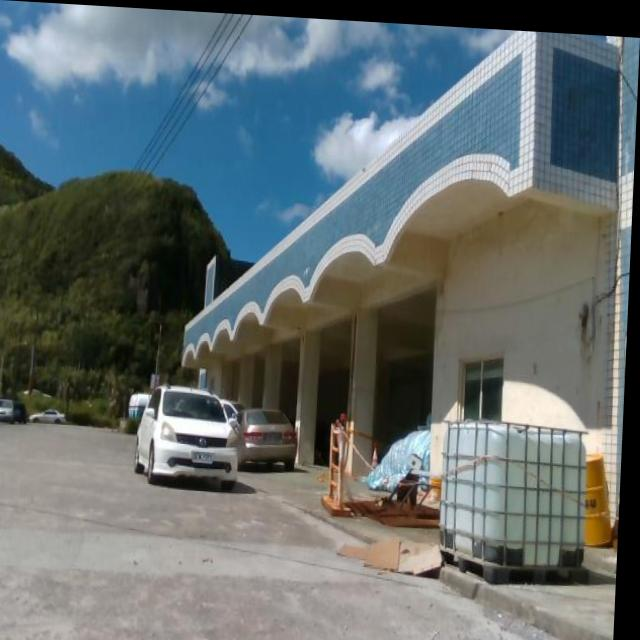pollute: (444, 416, 595, 580), (349, 405, 445, 525), (338, 533, 453, 571), (589, 440, 623, 541)
